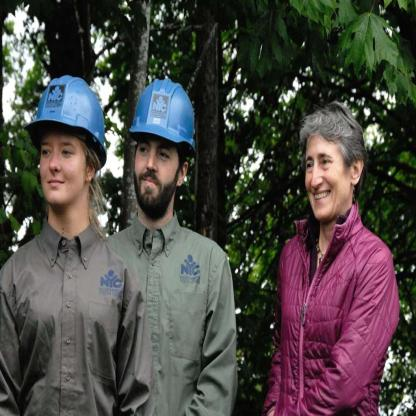Helmet: (22, 72, 107, 171), (126, 73, 197, 158)
